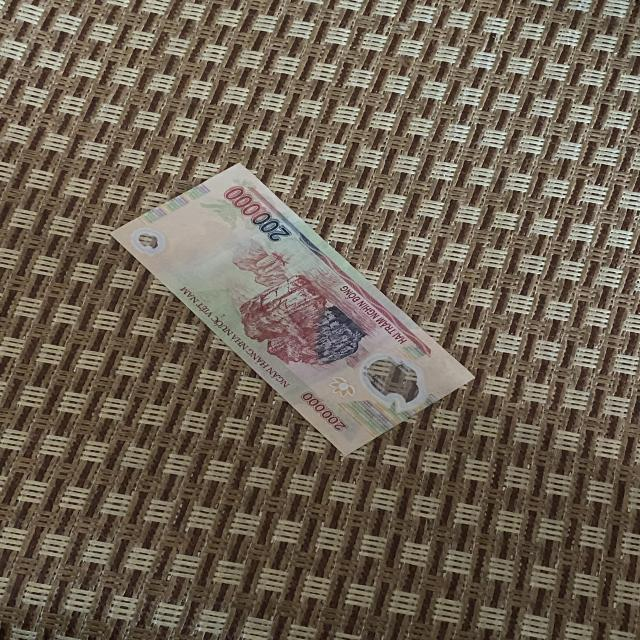200 000 VND: (96, 154, 482, 462)
